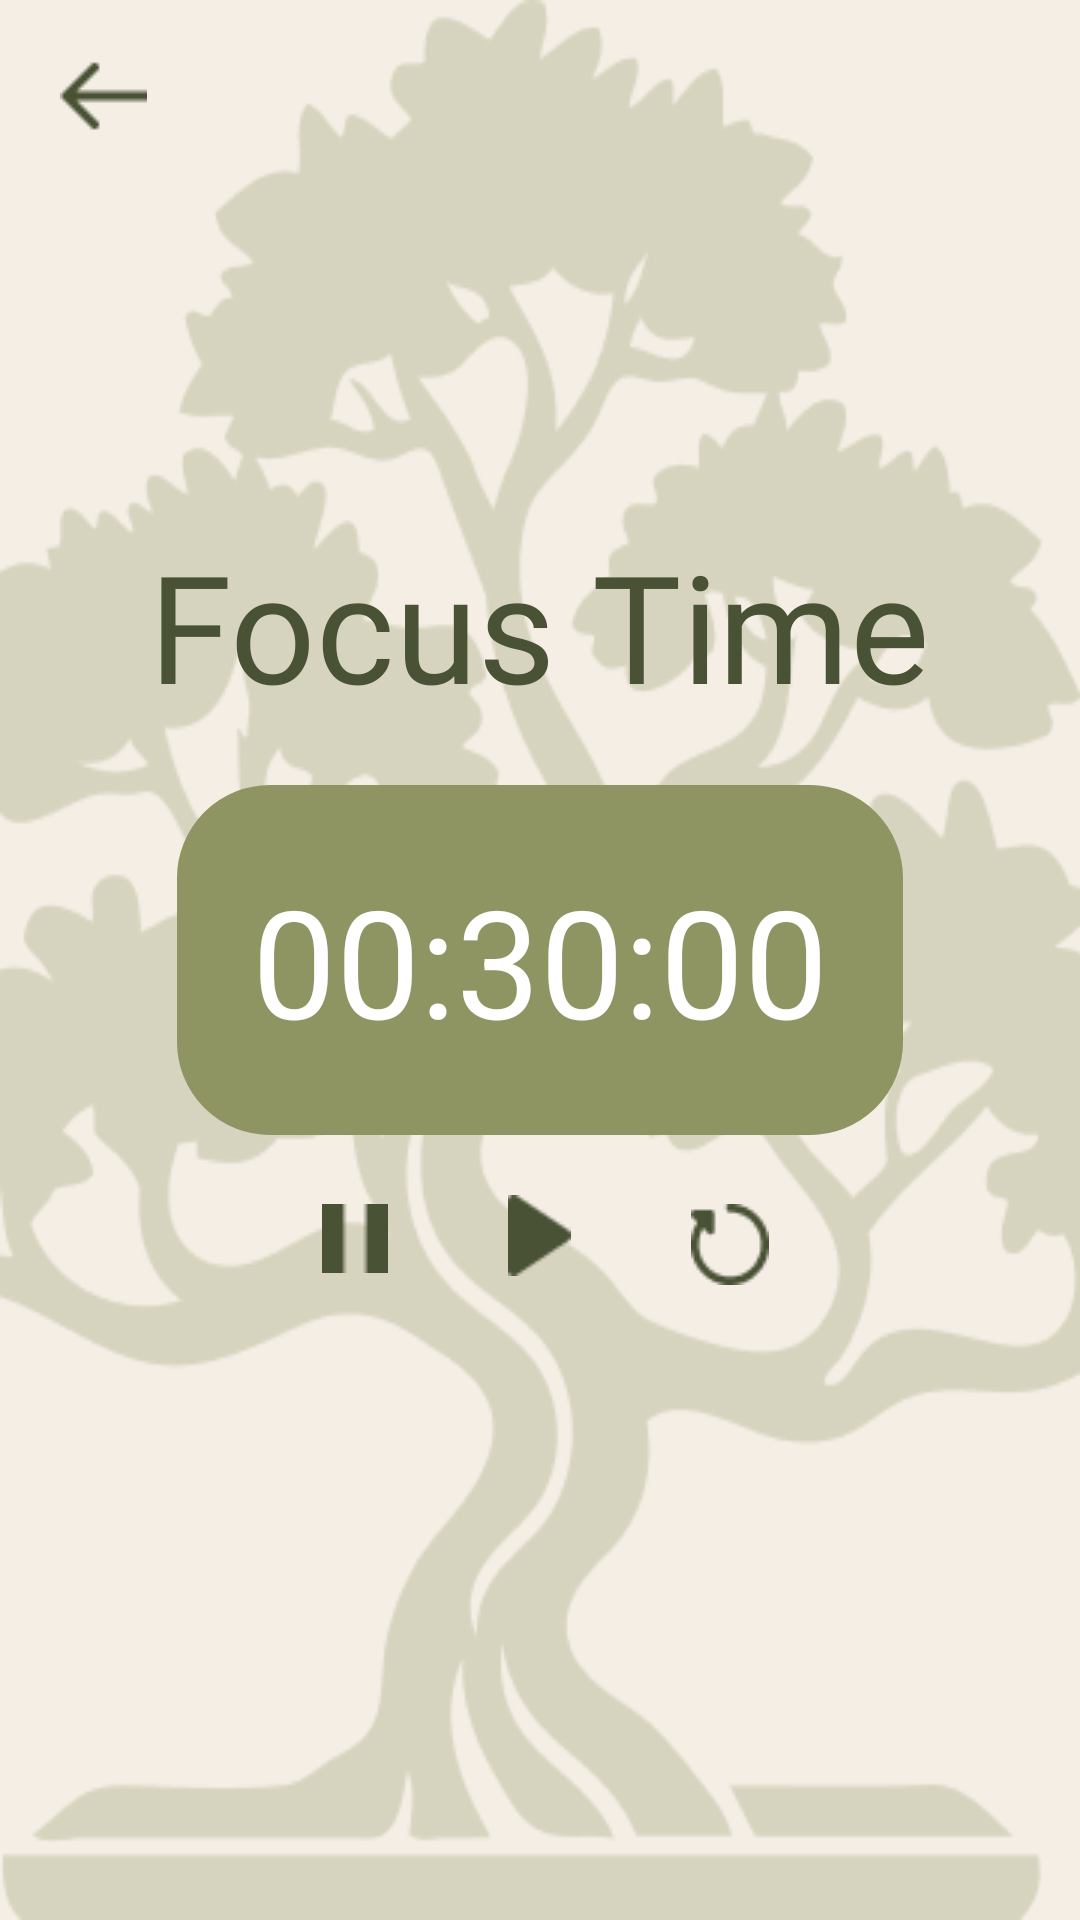

Where to tap for icons on this 1080 x 1920 app screen, as point (x, y):
arrow: point (103, 96)
